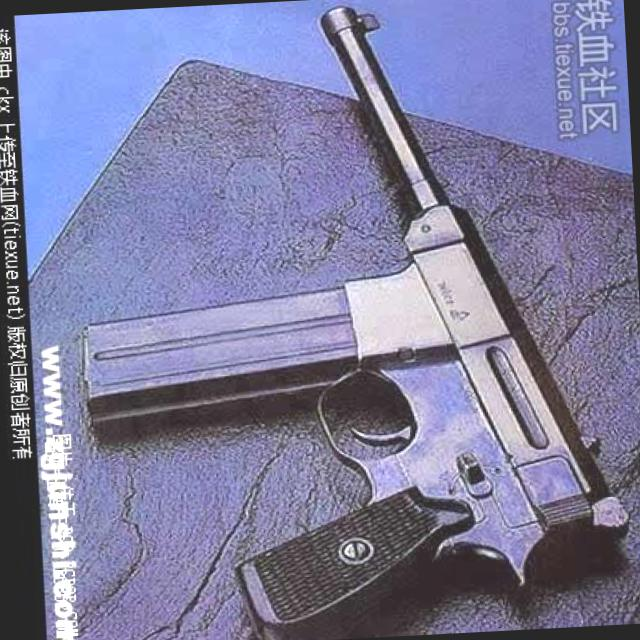handgun: (217, 0, 636, 626)
